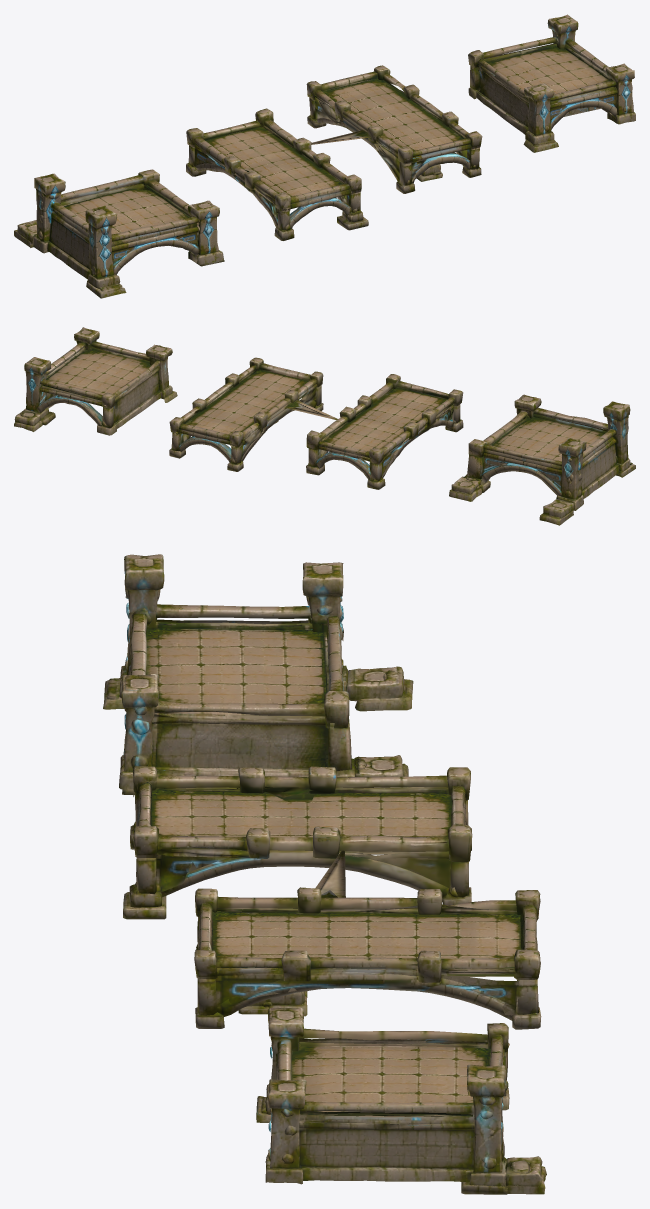
Rendered from Meshy_AI_Ancient_Runestone_Bri_1010224515_texture.glb.
The picture shows the model from 3 angles, top to bottom: view 1: azimuth 30°, elevation 25°; view 2: azimuth 150°, elevation 25°; view 3: azimuth 270°, elevation 25°; orthographic projection. The views are drawn at different scales.
Bounding box in the file's own units: 1 × 0.133 × 0.3757.
Materials: 1 (1 with a texture image).
